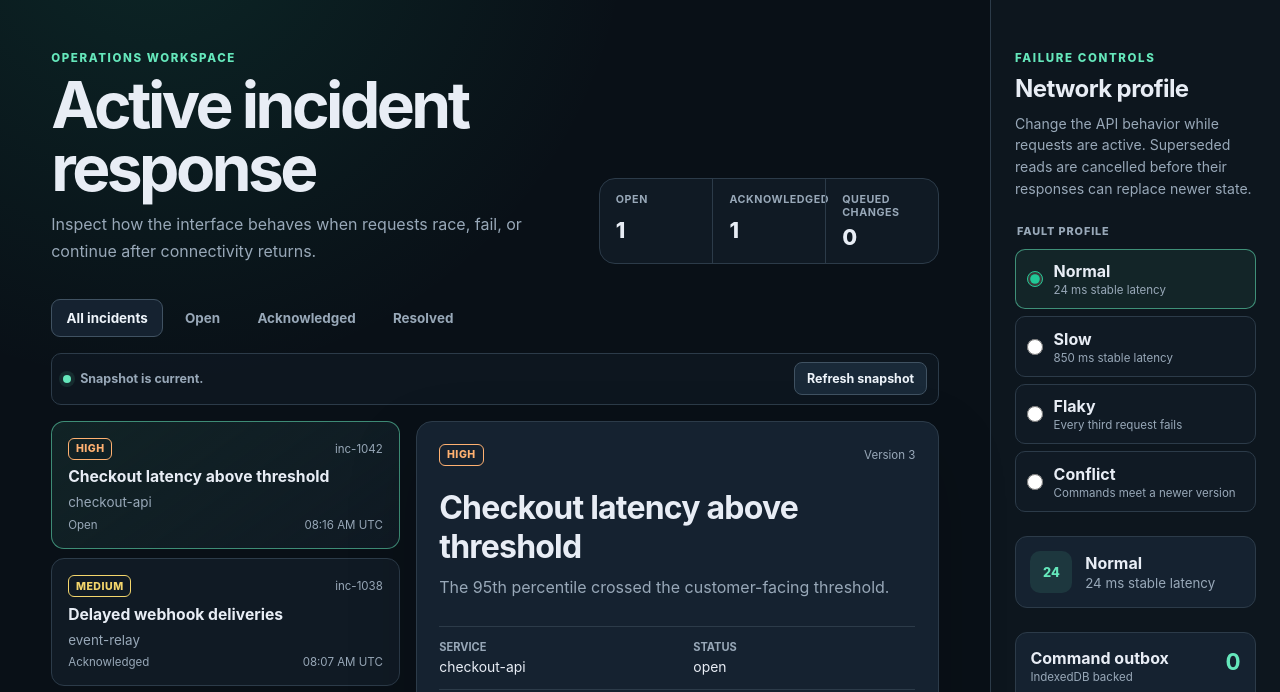
Test: IncidentConsole › keeps the last valid snapshot when a background refresh fails
The image size is (1280, 692).
Expected: the button "Checkout latency above threshold" is shown, [51, 420, 400, 548]
What coordinates should you click on to do the following:
click the button "Refresh snapshot"
I would click on:
 (861, 379)
Its box is [794, 362, 927, 395].
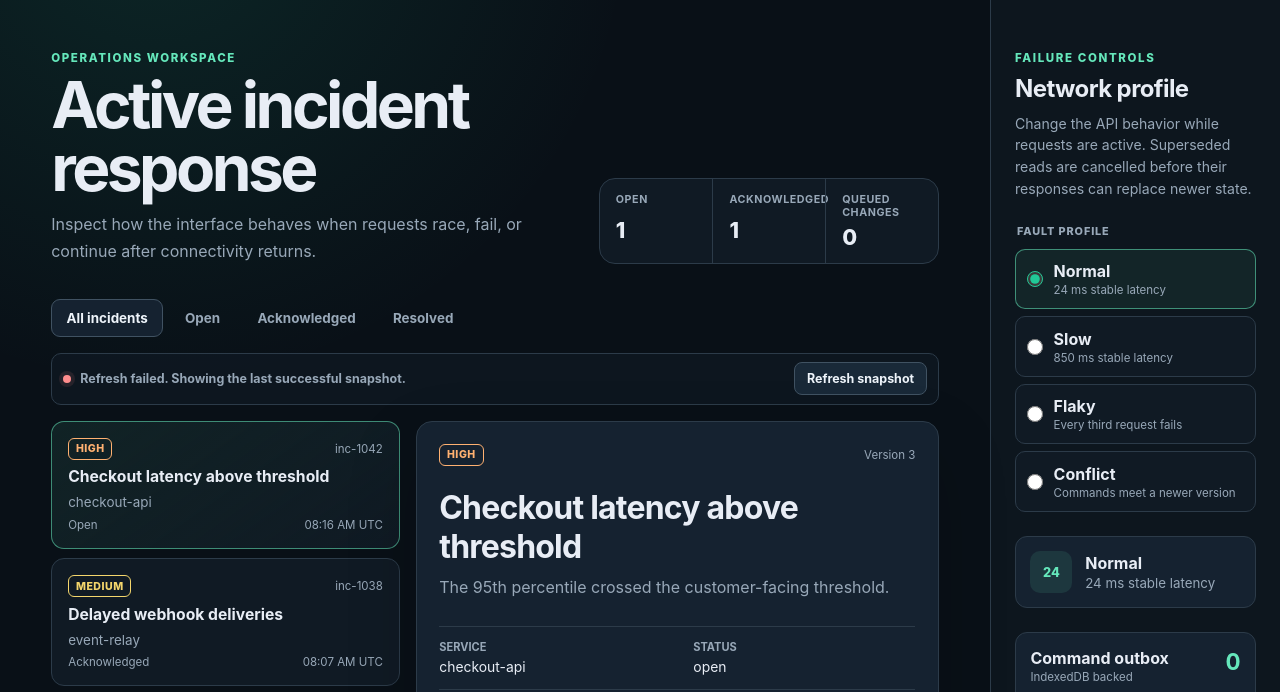
Expected: the text "Refreshing incident stream." is shown, [63, 371, 406, 386]
Now the text "Refresh failed. Showing the last successful snapshot." is shown, box [80, 371, 406, 386]
